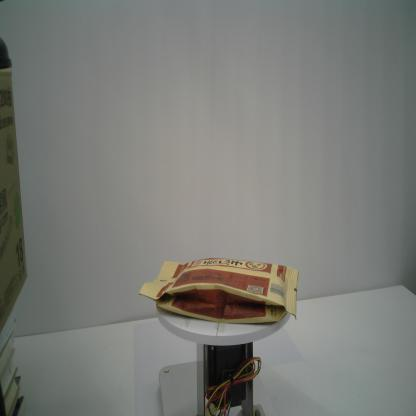Dried Food: (138, 259, 300, 325)
